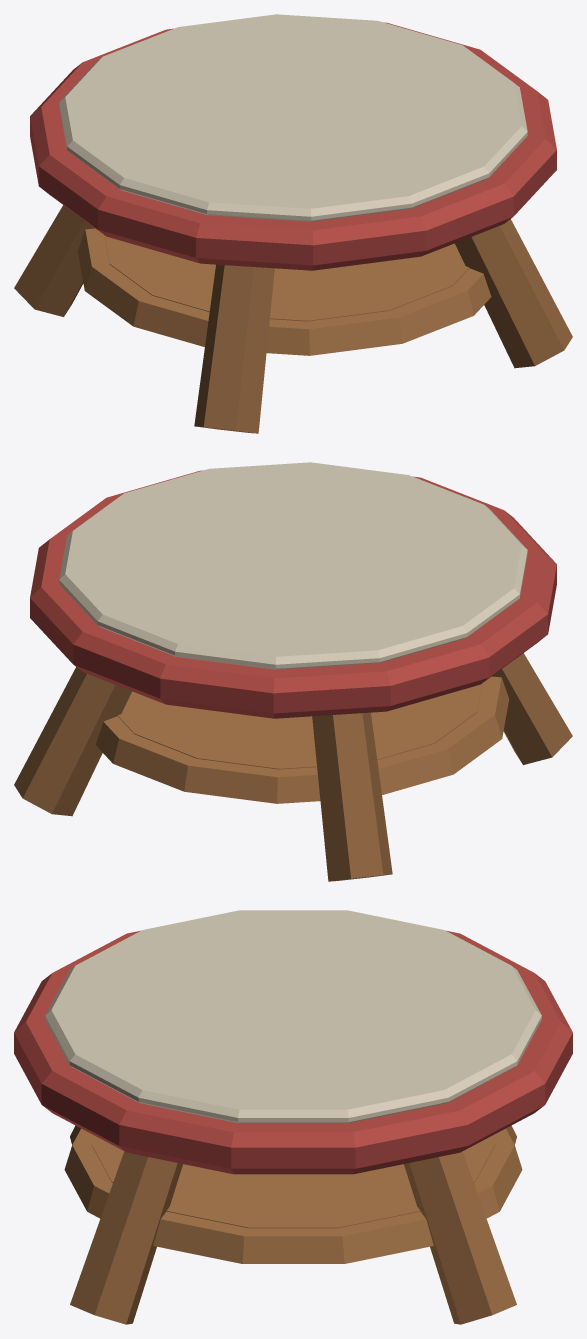
Rendered from phoenix_pad_stool.fbx.
The picture shows the model from 3 angles, top to bottom: view 1: azimuth 30°, elevation 25°; view 2: azimuth 150°, elevation 25°; view 3: azimuth 270°, elevation 25°; orthographic projection. The views are drawn at different scales.
Parts seen in each view (by area): view 1: phoenix_pad_stool; view 2: phoenix_pad_stool; view 3: phoenix_pad_stool.
Part boxes in pixels (bbox=[...]): phoenix_pad_stool: bbox=[14, 14, 572, 433]; phoenix_pad_stool: bbox=[14, 462, 572, 881]; phoenix_pad_stool: bbox=[14, 910, 572, 1324].
Size of the model in its own units: 7.02 by 3.34 by 7.2.
